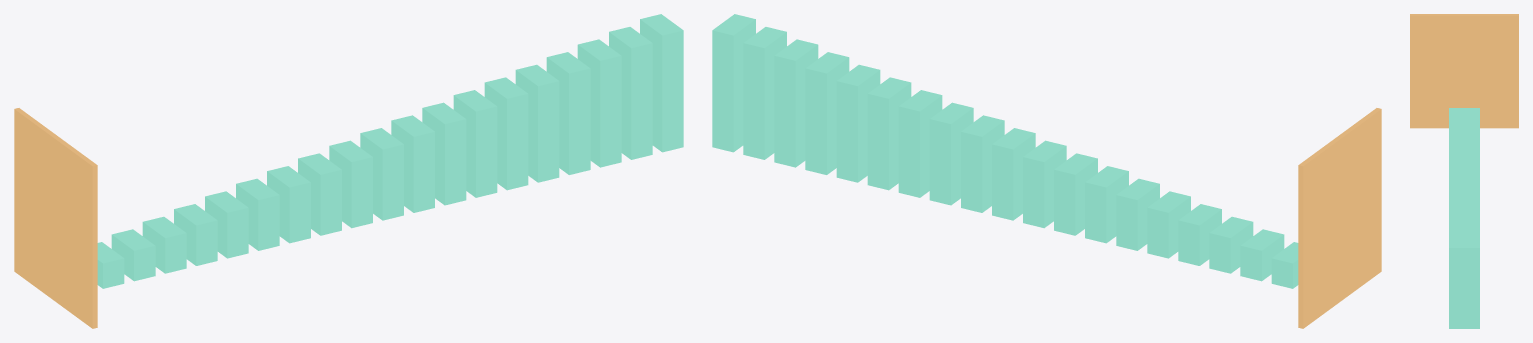
3 renders of one model, left to right at view 1: azimuth 30°, elevation 25°; view 2: azimuth 150°, elevation 25°; view 3: azimuth 270°, elevation 25°, orthographic. The views are drawn at different scales.
Parts seen in each view (by area): view 1: ruler, item_19, item_18, item_17, item_16, item_15, item_14, item_13, item_12, item_11, item_10, item_9 (+8 smaller); view 2: ruler, item_19, item_18, item_17, item_16, item_15, item_14, item_13, item_12, item_11, item_10, item_9 (+8 smaller); view 3: ruler, item_19, item_15, item_16, item_17, item_18, item_0, item_1, item_2, item_3, item_4, item_5 (+9 smaller).
Boxes of the visible parts, bbox=[...] form: ruler: bbox=[14, 108, 97, 328]; item_19: bbox=[640, 14, 683, 152]; item_18: bbox=[609, 27, 652, 159]; item_17: bbox=[577, 39, 621, 167]; item_16: bbox=[546, 52, 590, 174]; item_15: bbox=[515, 64, 559, 182]; item_14: bbox=[484, 77, 528, 190]; item_13: bbox=[453, 90, 497, 197]; item_12: bbox=[422, 102, 466, 205]; item_11: bbox=[391, 115, 434, 212]; item_10: bbox=[360, 128, 403, 220]; item_9: bbox=[329, 140, 372, 228]; ruler: bbox=[1298, 108, 1381, 328]; item_19: bbox=[712, 14, 755, 152]; item_18: bbox=[743, 27, 786, 159]; item_17: bbox=[774, 39, 818, 167]; item_16: bbox=[805, 52, 849, 174]; item_15: bbox=[836, 64, 880, 182]; item_14: bbox=[867, 77, 911, 190]; item_13: bbox=[898, 90, 942, 197]; item_12: bbox=[929, 102, 973, 205]; item_11: bbox=[961, 115, 1004, 212]; item_10: bbox=[992, 128, 1035, 220]; item_9: bbox=[1023, 140, 1066, 228]; ruler: bbox=[1410, 14, 1518, 128]; item_19: bbox=[1449, 240, 1479, 328]; item_15: bbox=[1449, 212, 1479, 219]; item_16: bbox=[1449, 219, 1479, 226]; item_17: bbox=[1449, 226, 1479, 233]; item_18: bbox=[1449, 233, 1479, 240]; item_0: bbox=[1449, 108, 1479, 114]; item_1: bbox=[1449, 115, 1479, 121]; item_2: bbox=[1449, 122, 1479, 128]; item_3: bbox=[1449, 129, 1479, 135]; item_4: bbox=[1449, 136, 1479, 142]; item_5: bbox=[1449, 143, 1479, 149].
Bounding box in the file's own units: 3.19 × 0.8 × 0.7.
